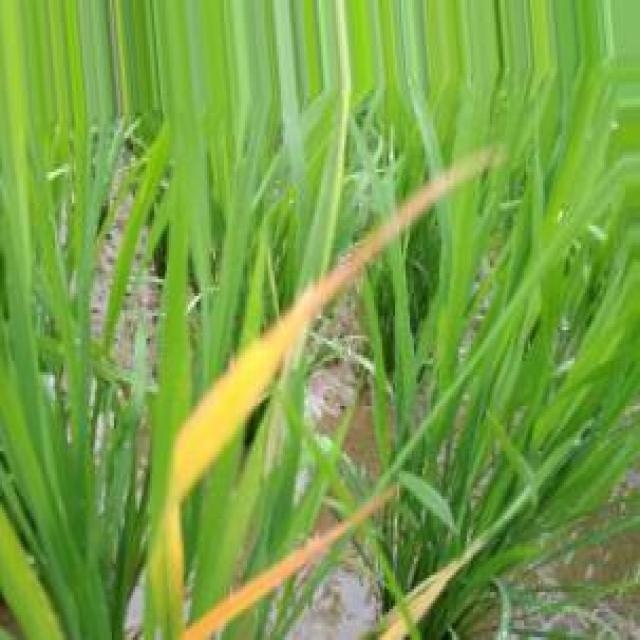Rice Tungro: (167, 151, 495, 506), (181, 488, 397, 638)
